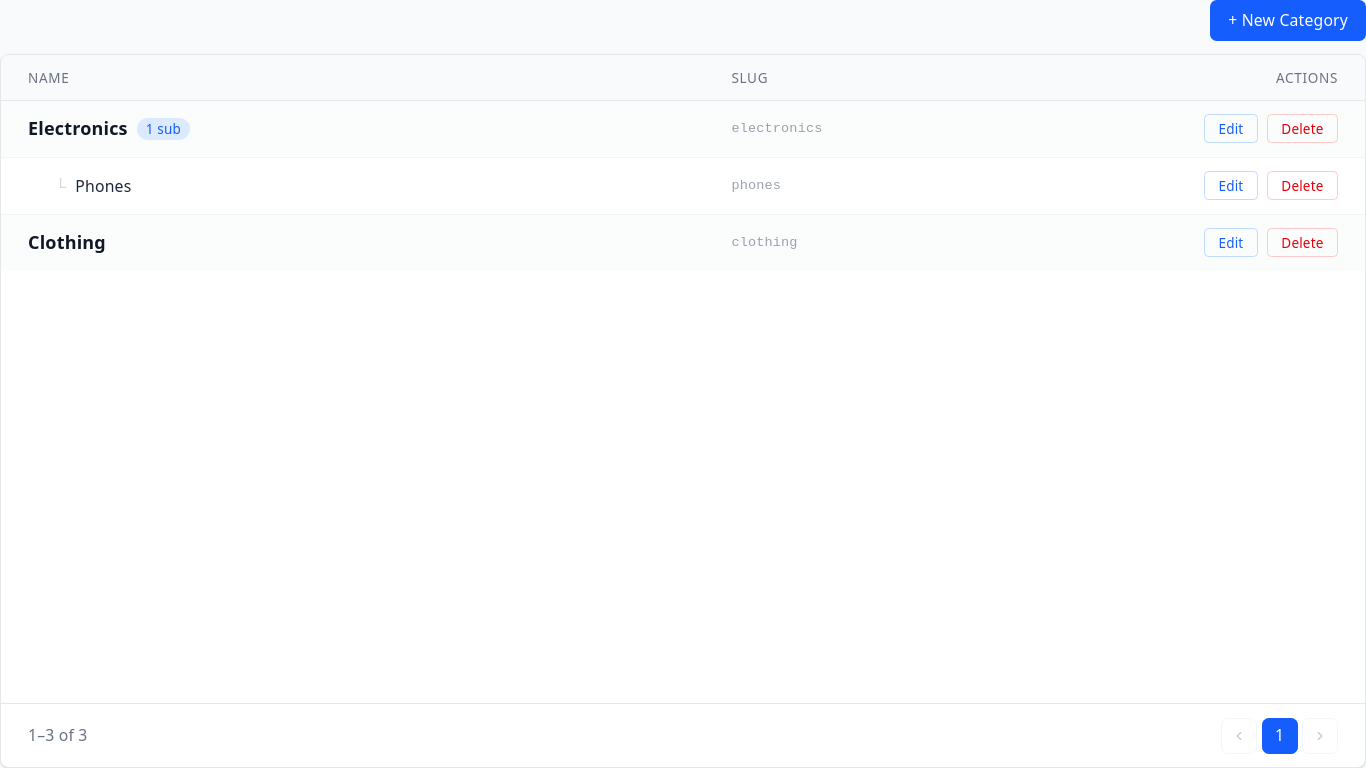
Test: CategoryList › opens "Create Category" modal when "+ New Category" is clicked
Click the button "+ New Category": coordinates (1288, 20) [1210, 0, 1365, 40]
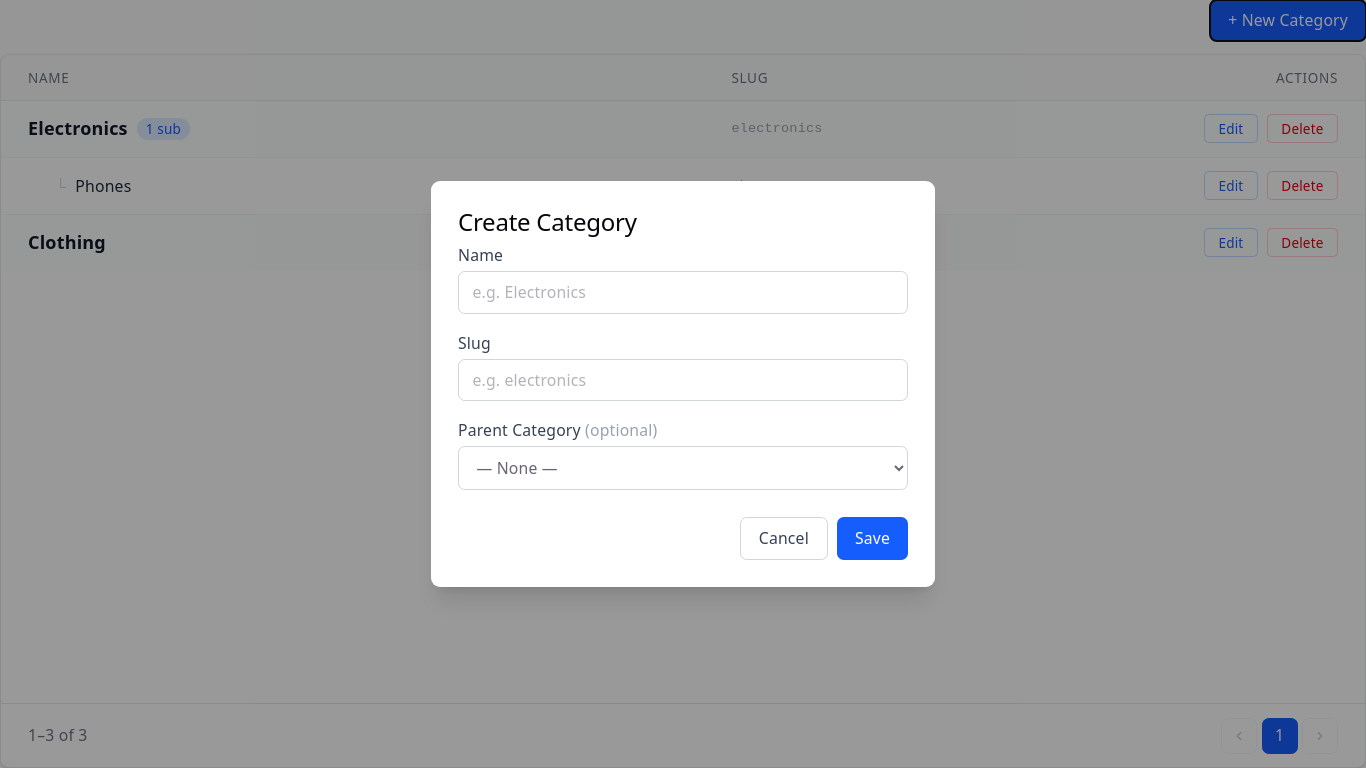
Now the heading "Create Category" is shown, box [458, 205, 637, 238]
